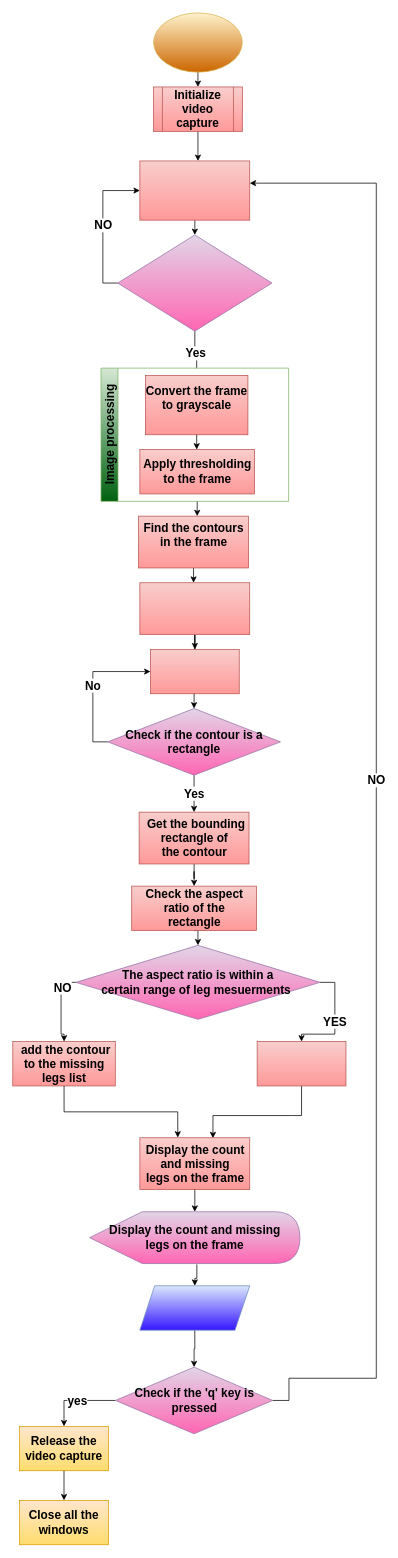
Image size: 398x1558. Some labels were removed from this diagram. The shapes that lost their labels are listed below. From the top down, each one's centre as x and y in pixels, then its label:
At (197,42): "Start".
At (194,190): "Capture a frame from the video".
At (194,282): ". Check if the frame was captured successfully".
At (194,608): "Initialize the count and missing legs variables".
At (194,671): "Iterate through the contours".
At (301,1063): "increase the leg count by 1".
At (194,1307): "Show the frame".
